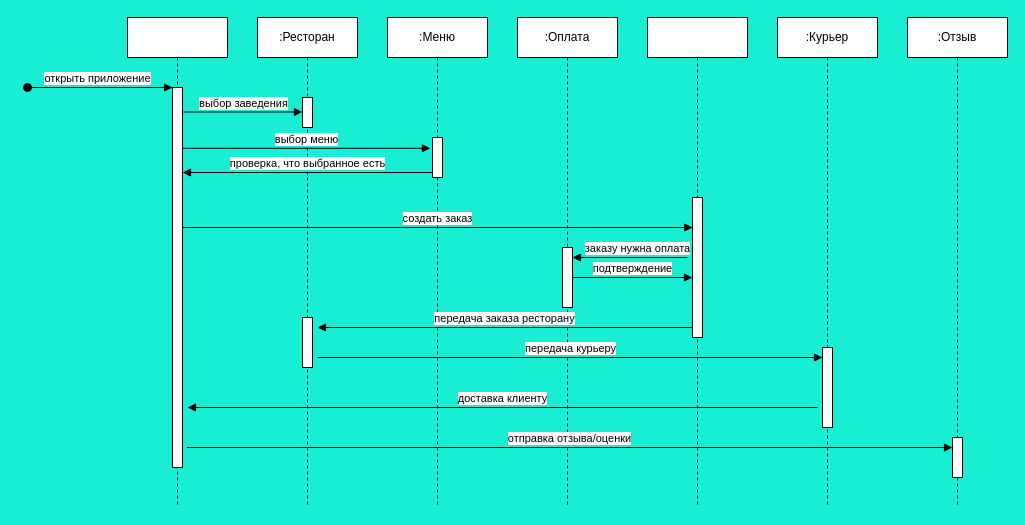
Some shapes in this 1025 by 525 pixel diagram are drawn without their labels. The box of each missing label's shape, as (x1, y1, x2, y2) in pixels:
:Заказ: (646, 16, 748, 508)
:Клиент: (126, 16, 228, 508)
